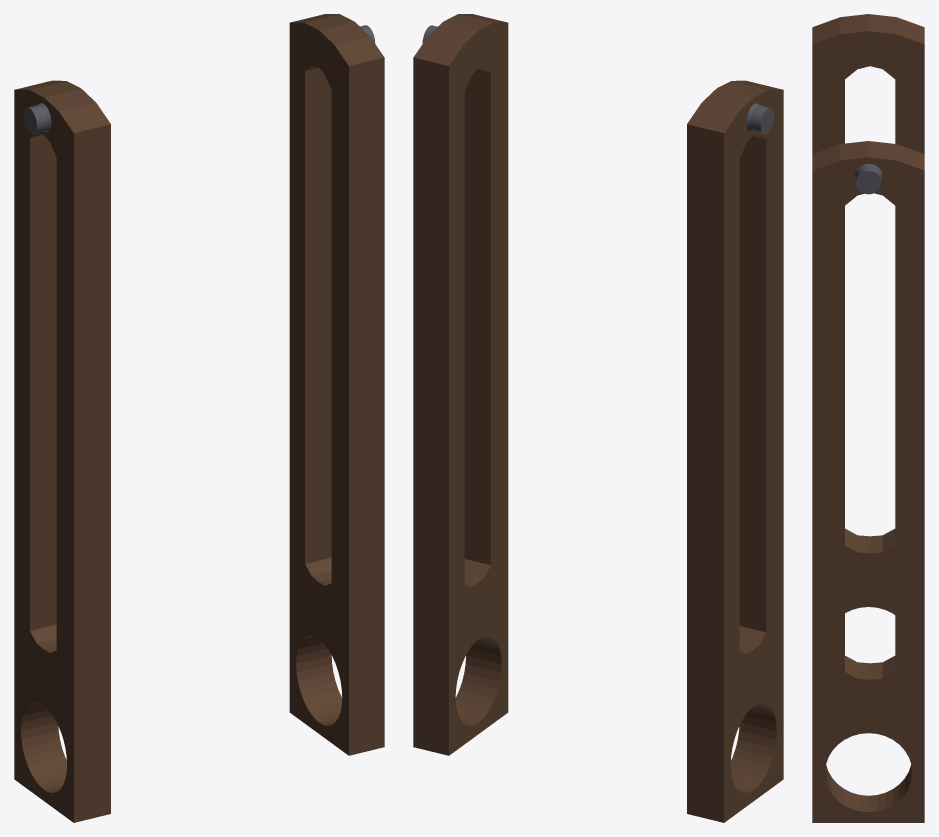
Rendered from BallistaSparePart.fbx.
3 renders of one model, left to right at view 1: azimuth 30°, elevation 25°; view 2: azimuth 150°, elevation 25°; view 3: azimuth 270°, elevation 25°, orthographic. The views are drawn at different scales.
Parts seen in each view (by area): view 1: Cube.007; view 2: Cube.007; view 3: Cube.007.
Boxes of the visible parts, <box> form: Cube.007: <box>14,14,384,822</box>; Cube.007: <box>413,14,783,822</box>; Cube.007: <box>812,14,924,822</box>.
Size of the model in its own units: 218 by 433 by 66.21.
